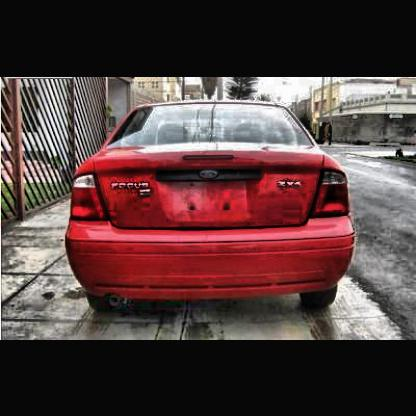Ford Focus Sedan 2007: (65, 102, 357, 314)
